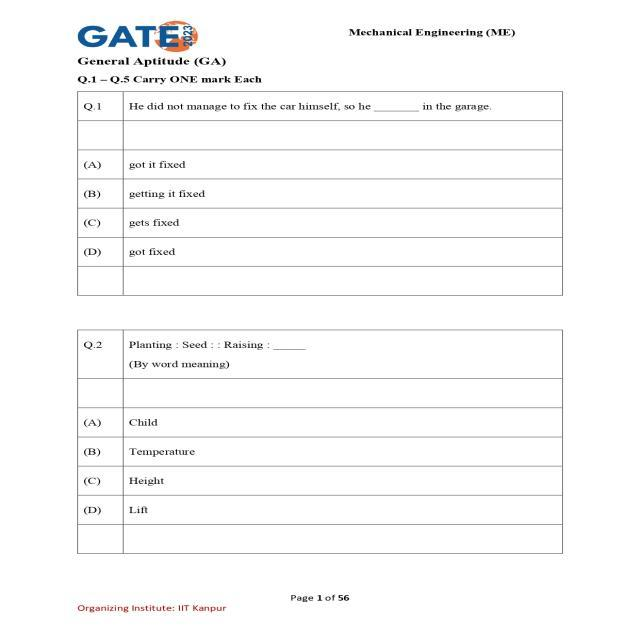Answer_Block: (73, 404, 565, 526), (79, 152, 566, 264)
Question_Answer_Block: (77, 88, 566, 299), (77, 328, 564, 527)
Question_Block: (77, 329, 564, 376), (75, 88, 560, 119)
Question_Paper_Area: (77, 49, 566, 555)
